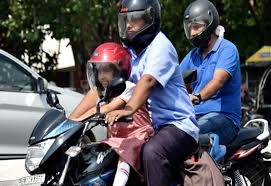with_helmet: (91, 42, 134, 67), (117, 1, 159, 25), (183, 1, 220, 23)
